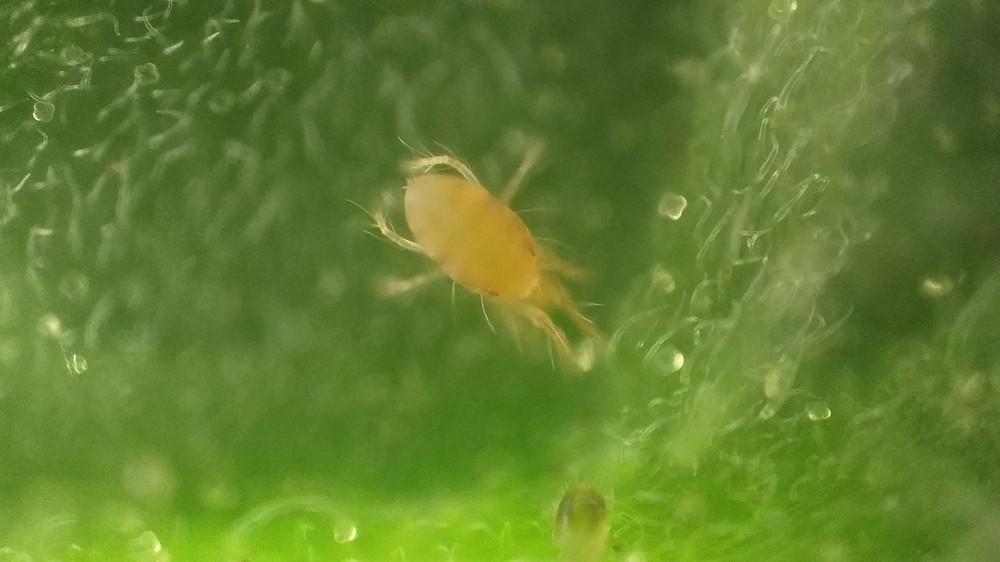Aracnido Rojo: (334, 128, 622, 380)
